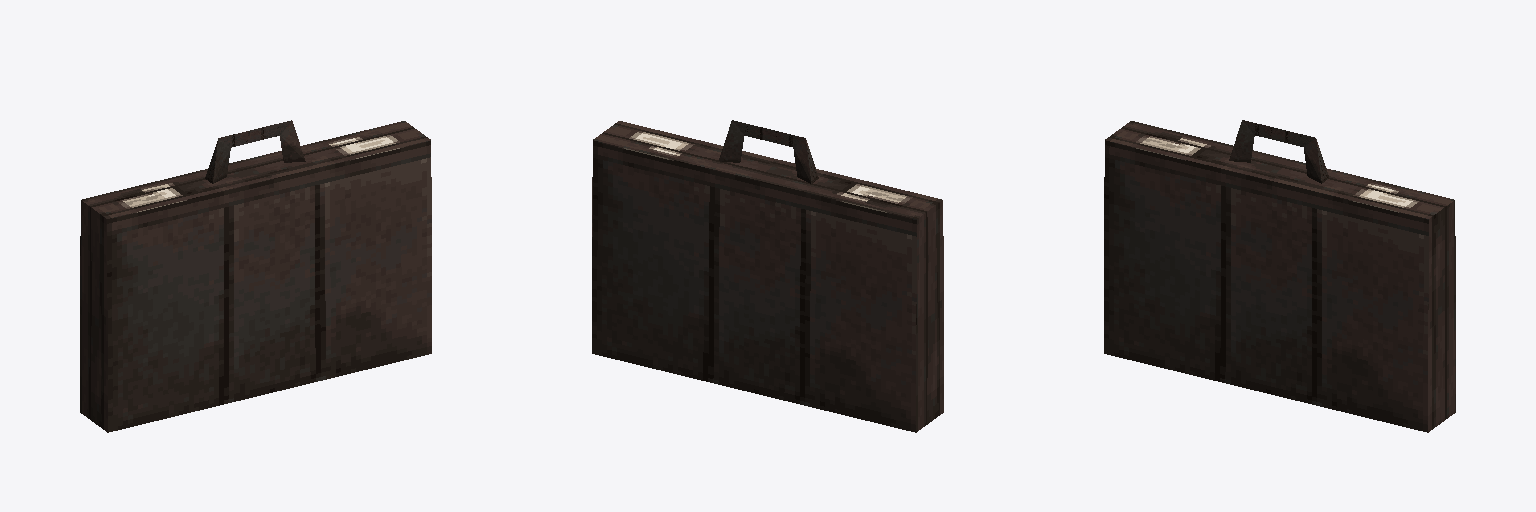
3 views of the same model, side by side, from view 1: azimuth 30°, elevation 25°; view 2: azimuth 150°, elevation 25°; view 3: azimuth 330°, elevation 25° (orthographic).
Size of the model in its own units: 0.4946 by 0.3706 by 0.0739.
Materials: 1 (1 with a texture image).